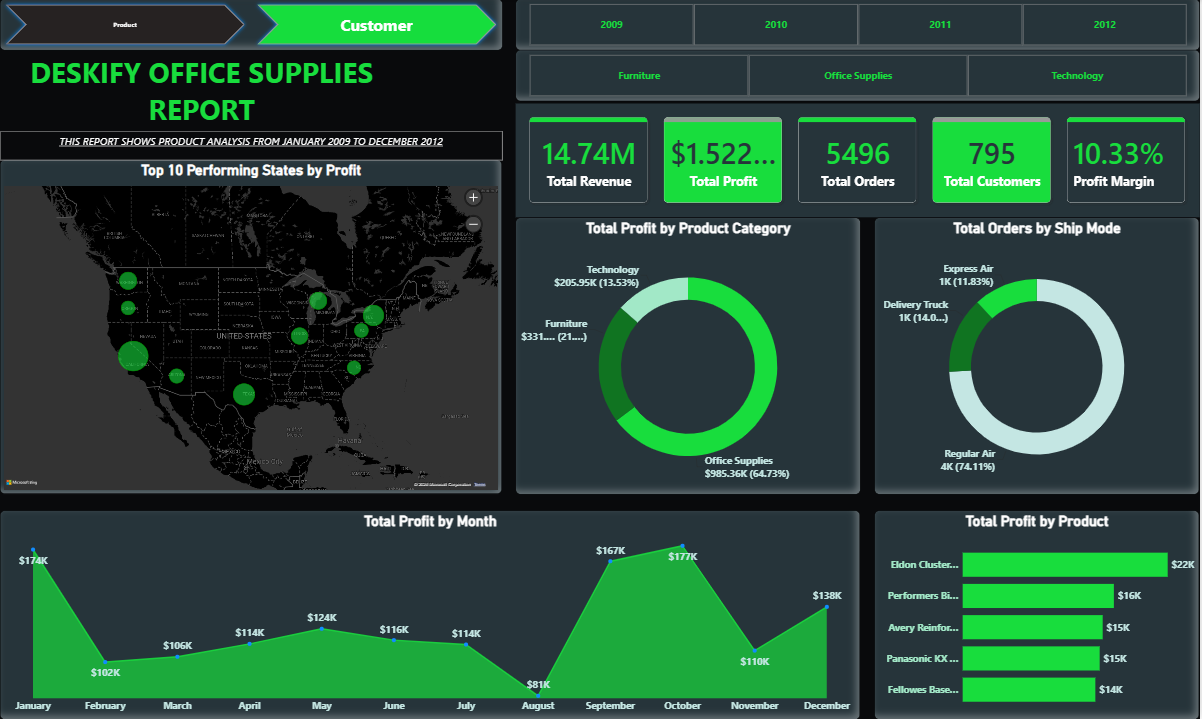

The dashboard page shown, as its layout file describes it:
{"tool":"powerbi","page":{"name":"Product","canvas":[2500,1500],"ordinal":0},"visuals":[{"type":"cardVisual","fields":{"Data":["Calculated Measures.Total Revenue","Calculated Measures.Total Profit","Calculated Measures.Total Orders","Calculated Measures.Total Customers","Calculated Measures.Profit Margin"]},"box":[1073.9,217.8,1425.5,236.9],"z":0},{"type":"map","title":"Top 10 Performing States by Profit","fields":{"Size":["Calculated Measures.Total Profit"],"Category":["LocationDim.State"]},"box":[0,335.2,1045.8,696.2],"z":1000},{"type":"donutChart","fields":{"Y":["Calculated Measures.Total Profit"],"Category":["ProductDim.Product Category"]},"box":[1073.9,454.8,718.5,577.1],"z":2000},{"type":"donutChart","fields":{"Y":["Calculated Measures.Total Orders"],"Category":["OrderDim.Ship Mode"]},"box":[1822.9,454.8,676.4,577.1],"z":3000},{"type":"barChart","title":"Total Profit by Product","fields":{"Y":["Calculated Measures.Total Profit"],"Category":["ProductDim.Product Name"]},"box":[1822.9,1066.2,676.4,435.7],"z":4000},{"type":"areaChart","title":"Total Profit by Month","fields":{"Y":["Calculated Measures.Total Profit"],"Category":["CalendarDim.MonthName"]},"box":[0,1066.2,1792.4,435.7],"z":5000},{"type":"slicer","fields":{"Values":["CalendarDim.Year"]},"box":[1073.9,0,1425.5,107],"z":6000},{"type":"slicer","fields":{"Values":["ProductDim.Product Category"]},"box":[1073.9,107,1425.5,107],"z":7000},{"type":"pageNavigator","box":[0,0,1047.1,107],"z":8000},{"type":"textbox","box":[0,107,840.8,168.2],"z":9000},{"type":"textbox","box":[0,275.2,1047.1,61.1],"z":10000}]}

Visuals, with their boxes in screenshot pixels (x1, y1, x2, y2), scaled from the page's 2500x1500 canvas onto the 1202x719 screenshot:
cardVisual - Calculated Measures.Total Revenue x Calculated Measures.Total Profit: (516,104,1201,218)
"Top 10 Performing States by Profit" map: (0,161,503,494)
donutChart - Calculated Measures.Total Profit x ProductDim.Product Category: (516,218,862,495)
donutChart - Calculated Measures.Total Orders x OrderDim.Ship Mode: (876,218,1201,495)
"Total Profit by Product" barChart: (876,511,1201,718)
"Total Profit by Month" areaChart: (0,511,862,718)
slicer - CalendarDim.Year: (516,0,1201,51)
slicer - ProductDim.Product Category: (516,51,1201,103)
pageNavigator: (0,0,503,51)
textbox: (0,51,404,132)
textbox: (0,132,503,161)
